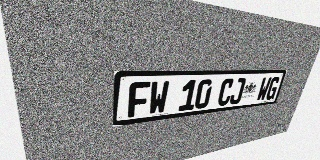0: (194, 79, 213, 109)
1: (178, 80, 199, 111)
C: (216, 78, 235, 106)
F: (128, 81, 150, 118)
G: (265, 77, 281, 100)
J: (229, 78, 247, 105)
W: (148, 81, 170, 115), (256, 77, 272, 101)
